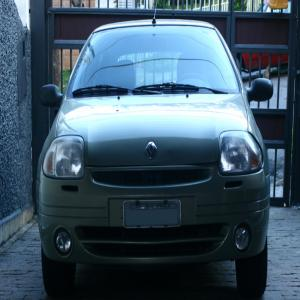Vehicle-registration-plate: (124, 202, 182, 229)
